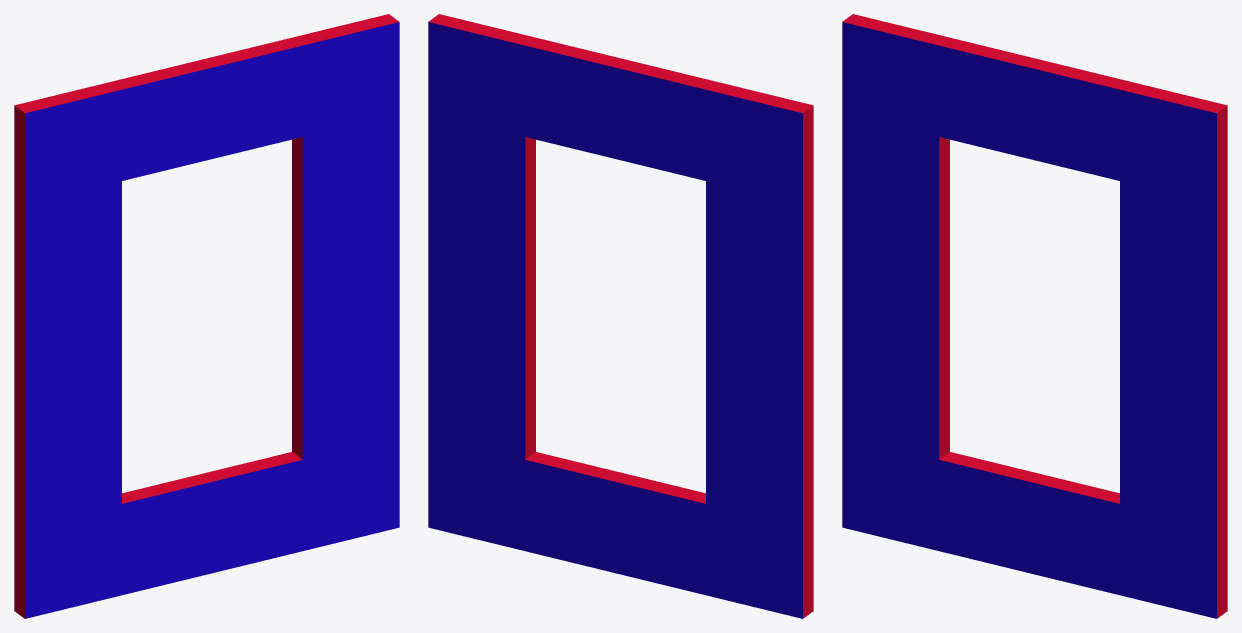
Rendered from wallWindow.fbx.
The picture shows the model from 3 angles, left to right: view 1: azimuth 30°, elevation 25°; view 2: azimuth 150°, elevation 25°; view 3: azimuth 330°, elevation 25°; orthographic projection.
Parts seen in each view (by area): view 1: wallWindow; view 2: wallWindow; view 3: wallWindow.
Boxes of the visible parts, x1=… form: wallWindow: x1=14, y1=14, x2=399, y2=618; wallWindow: x1=428, y1=14, x2=813, y2=618; wallWindow: x1=842, y1=14, x2=1227, y2=618.
Size of the model in its own units: 1000 by 1290 by 50.
